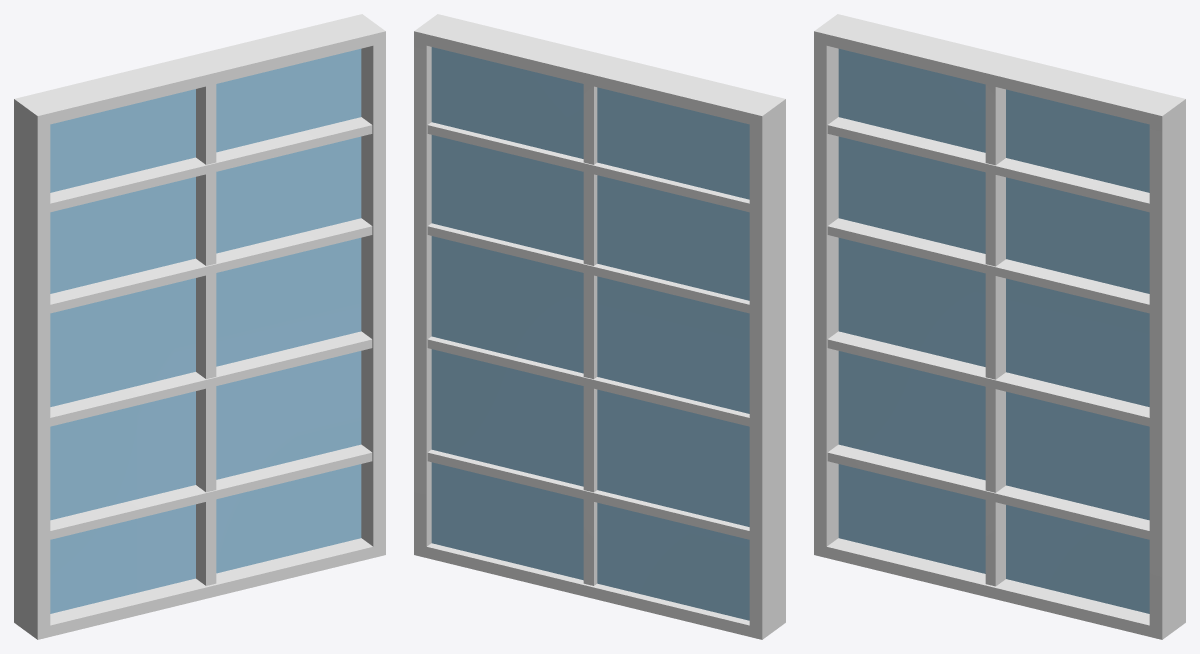
Rendered from window_004.fbx.
3 renders of one model, left to right at view 1: azimuth 30°, elevation 25°; view 2: azimuth 150°, elevation 25°; view 3: azimuth 330°, elevation 25°, orthographic.
Parts seen in each view (by area): view 1: window_004; view 2: window_004; view 3: window_004.
Boxes of the visible parts, x1,y1,x2,y2 form: window_004: (14, 14, 385, 639); window_004: (414, 14, 785, 639); window_004: (814, 14, 1185, 639).
Bounding box in the file's own units: 192 × 22.49 × 276.
